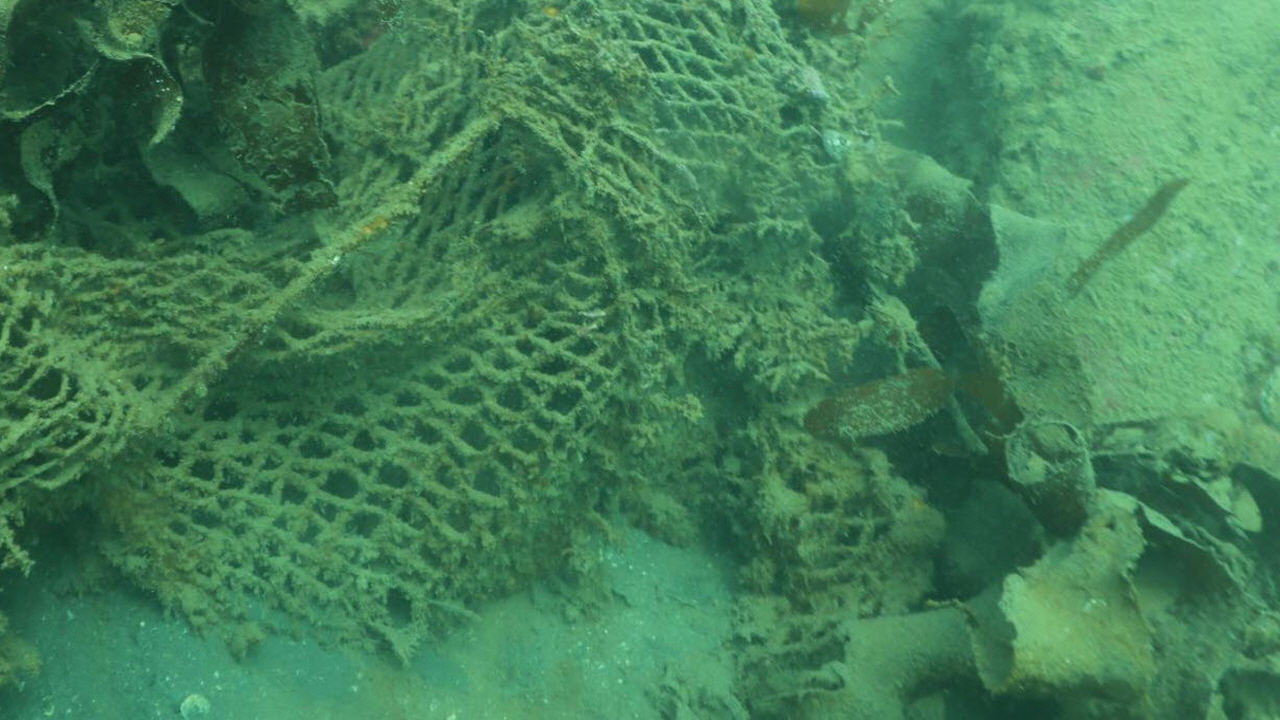fish net: (0, 0, 877, 633)
